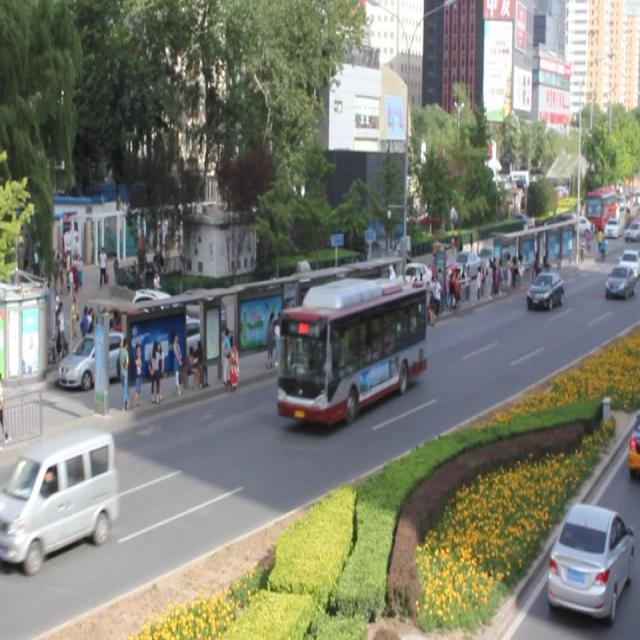car: (524, 271, 564, 310), (602, 264, 640, 299)
truck: (1, 430, 113, 561)
van: (278, 280, 424, 418)
